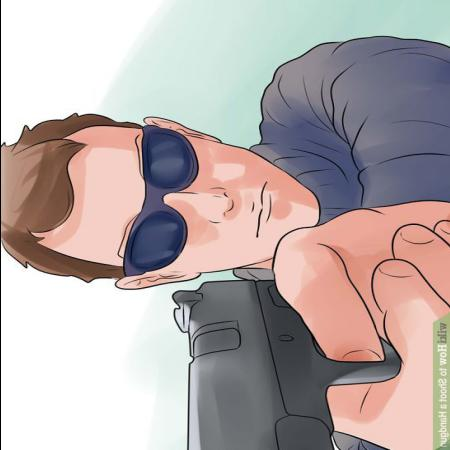Pistol: (160, 258, 399, 450)
